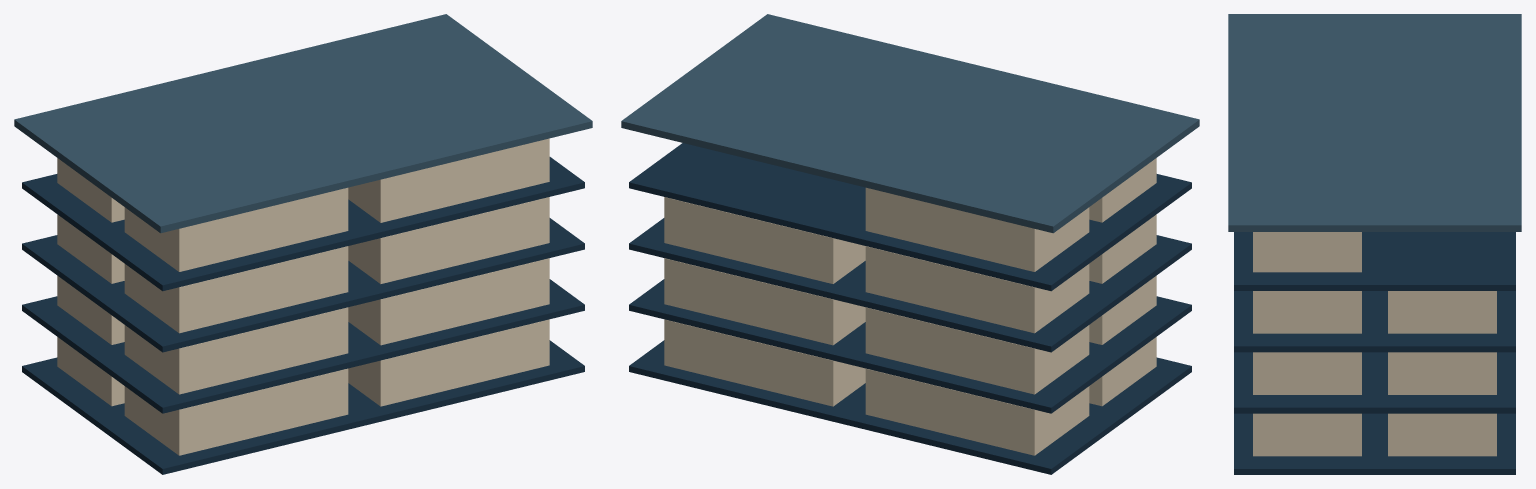
Rendered from npc_placeholder.glb.
3 renders of one model, left to right at view 1: azimuth 30°, elevation 25°; view 2: azimuth 150°, elevation 25°; view 3: azimuth 270°, elevation 25°, orthographic.
Visible parts, largest first — view 1: ROOF, FLOOR_1_slab, FLOOR_2_slab, FLOOR_3_slab, FLOOR_4_slab, ROOM_1-01, ROOM_2-01, ROOM_3-01, ROOM_4-01, ROOM_2-02, ROOM_1-02, ROOM_3-02 (+5 smaller); view 2: ROOF, FLOOR_4_slab, FLOOR_1_slab, FLOOR_2_slab, FLOOR_3_slab, ROOM_1-03, ROOM_2-03, ROOM_3-03, ROOM_4-03, ROOM_2-04, ROOM_1-04, ROOM_3-04 (+4 smaller); view 3: ROOF, FLOOR_4_slab, FLOOR_3_slab, FLOOR_1_slab, FLOOR_2_slab, ROOM_1-02, ROOM_1-04, ROOM_2-02, ROOM_2-04, ROOM_3-02, ROOM_3-04, ROOM_4-02.
Part boxes in pixels (x1,y1,x2,y2): ROOF: (14,14,592,233); FLOOR_1_slab: (22,340,584,474); FLOOR_2_slab: (22,279,584,413); FLOOR_3_slab: (22,218,584,352); FLOOR_4_slab: (22,157,584,291); ROOM_1-01: (124,368,348,455); ROOM_2-01: (124,307,348,394); ROOM_3-01: (124,246,348,333); ROOM_4-01: (124,187,348,271); ROOM_2-02: (348,258,549,345); ROOM_1-02: (348,319,549,406); ROOM_3-02: (348,197,549,283); ROOF: (621,14,1199,233); FLOOR_4_slab: (629,143,1191,291); FLOOR_1_slab: (629,340,1191,474); FLOOR_2_slab: (629,279,1191,413); FLOOR_3_slab: (629,218,1191,352); ROOM_1-03: (865,368,1089,455); ROOM_2-03: (865,307,1089,394); ROOM_3-03: (865,246,1089,333); ROOM_4-03: (865,187,1089,271); ROOM_2-04: (664,258,865,345); ROOM_1-04: (664,319,865,406); ROOM_3-04: (664,197,865,283); ROOF: (1228,14,1521,231); FLOOR_4_slab: (1234,232,1515,290); FLOOR_3_slab: (1234,291,1515,352); FLOOR_1_slab: (1234,413,1515,474); FLOOR_2_slab: (1234,352,1515,413); ROOM_1-02: (1253,413,1361,456); ROOM_1-04: (1388,413,1496,456); ROOM_2-02: (1253,352,1361,394); ROOM_2-04: (1388,352,1496,394); ROOM_3-02: (1253,291,1361,333); ROOM_3-04: (1388,291,1496,333); ROOM_4-02: (1253,232,1361,272).
Bounding box in the file's own units: 26.6 × 14.8 × 15.6.
